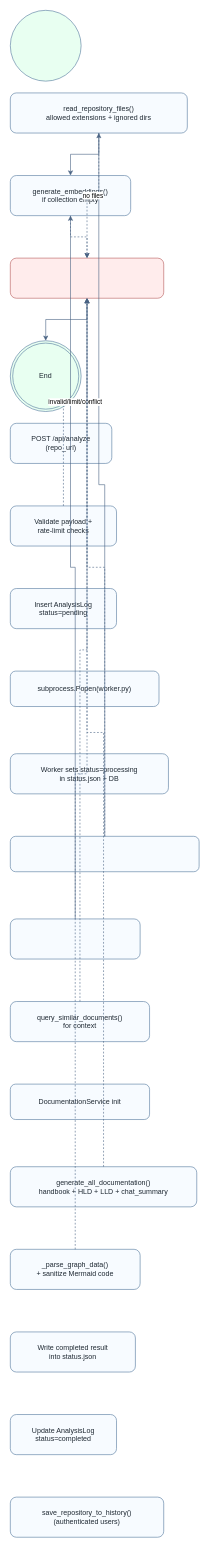
This 209x1548 diagram has some shape labels left out. The box of each missing label's shape, as (x1, y1, x2, y2) in pixels:
On exception: status=error + error message: (10, 258, 164, 298)
RepositoryService.clone_repository(): (10, 836, 199, 872)
Start: (10, 10, 81, 81)
VectorStoreService init (collection per repo): (10, 918, 140, 959)
